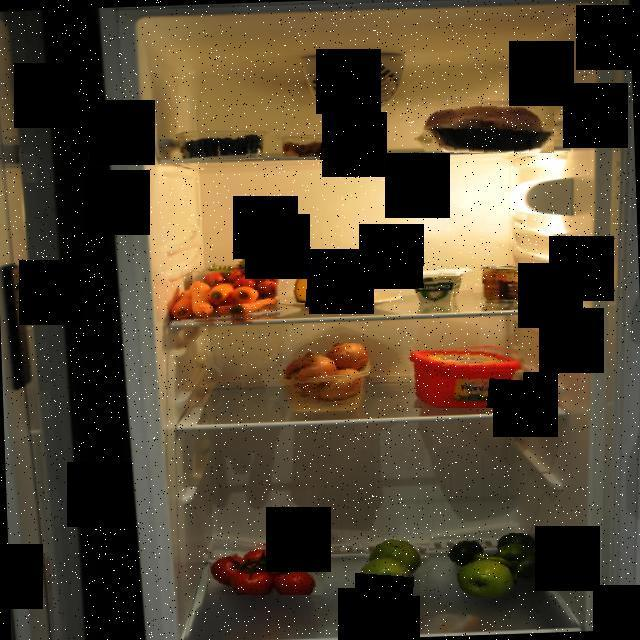apple: (362, 528, 432, 596), (456, 555, 518, 598)
blueberries: (176, 132, 263, 162)
butter: (410, 341, 526, 408)
carrot: (160, 281, 280, 325)
cheese: (294, 270, 364, 308)
chicken: (414, 95, 554, 153)
corn: (479, 264, 531, 308)
goat_cheese: (404, 266, 474, 306)
lime: (494, 533, 552, 585), (448, 540, 484, 567)
onion: (284, 343, 370, 408)
shrimp: (274, 134, 366, 160)
strawberries: (200, 258, 280, 307)
tomato: (208, 539, 328, 595)
